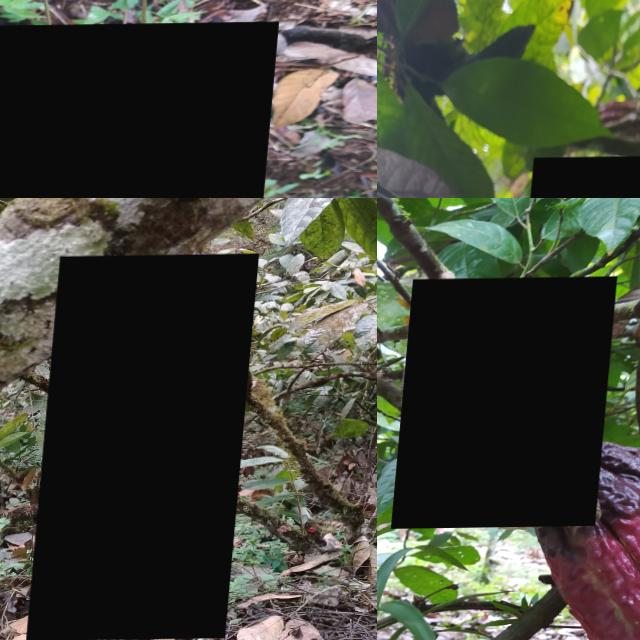Fitoftora: (36, 255, 262, 640), (524, 436, 640, 640)
Monilia: (398, 277, 620, 529), (0, 23, 282, 198)
